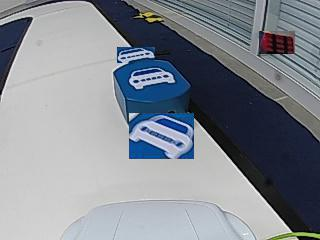safety: (127, 66, 177, 89)
